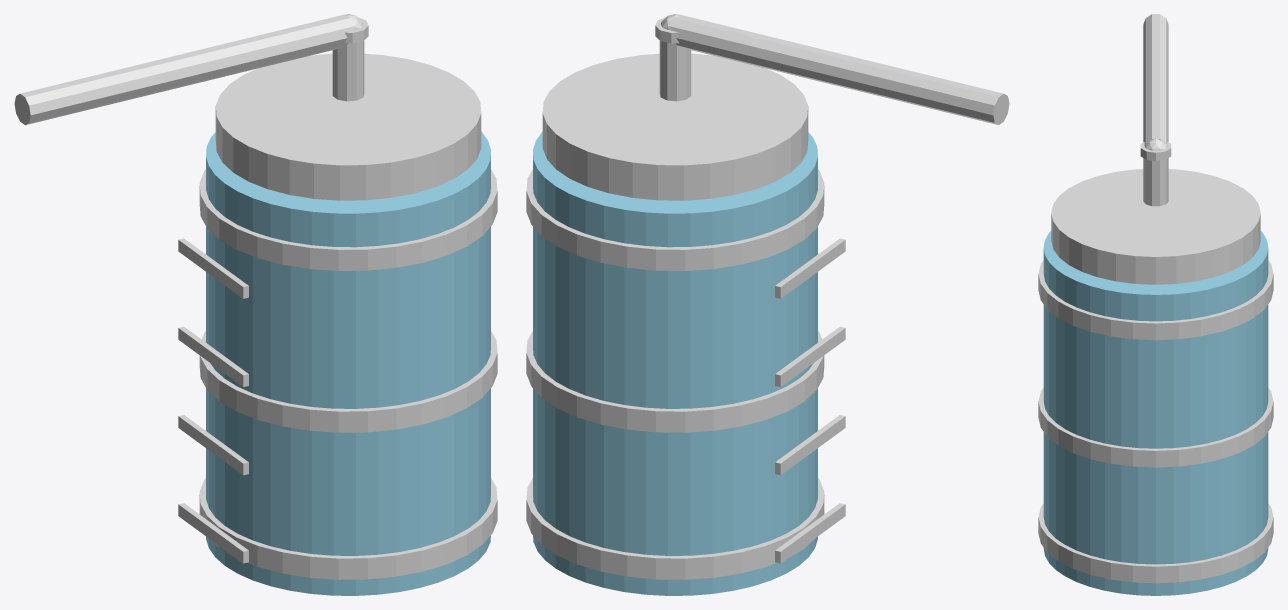
File: L73_16_AbrasiveSlurryMixingTank_Fitted.fbx
3 renders of one model, left to right at view 1: azimuth 30°, elevation 25°; view 2: azimuth 150°, elevation 25°; view 3: azimuth 270°, elevation 25°, orthographic. The views are drawn at different scales.
Visible parts, largest first — view 1: L73_AbrasiveSlurryMixingTank_Static__glass, L73_AbrasiveSlurryMixingTank_Static__tint47657C, L73_AbrasiveSlurryMixingTank_Static__tint1B76D6, L73_AbrasiveSlurryMixingTank_Static__tint27D8F6; view 2: L73_AbrasiveSlurryMixingTank_Static__glass, L73_AbrasiveSlurryMixingTank_Static__tint47657C, L73_AbrasiveSlurryMixingTank_Static__tint1B76D6, L73_AbrasiveSlurryMixingTank_Static__tint27D8F6; view 3: L73_AbrasiveSlurryMixingTank_Static__glass, L73_AbrasiveSlurryMixingTank_Static__tint47657C, L73_AbrasiveSlurryMixingTank_Static__tintC2D0D6.
Part boxes in pixels (x1,y1,x2,y2): L73_AbrasiveSlurryMixingTank_Static__glass: (206, 131, 490, 595); L73_AbrasiveSlurryMixingTank_Static__tint47657C: (14, 14, 497, 579); L73_AbrasiveSlurryMixingTank_Static__tint1B76D6: (178, 238, 248, 386); L73_AbrasiveSlurryMixingTank_Static__tint27D8F6: (178, 415, 248, 563); L73_AbrasiveSlurryMixingTank_Static__glass: (533, 131, 817, 595); L73_AbrasiveSlurryMixingTank_Static__tint47657C: (526, 14, 1009, 579); L73_AbrasiveSlurryMixingTank_Static__tint1B76D6: (775, 238, 845, 386); L73_AbrasiveSlurryMixingTank_Static__tint27D8F6: (775, 415, 845, 563); L73_AbrasiveSlurryMixingTank_Static__glass: (1043, 231, 1268, 595); L73_AbrasiveSlurryMixingTank_Static__tint47657C: (1038, 14, 1273, 583); L73_AbrasiveSlurryMixingTank_Static__tintC2D0D6: (1140, 142, 1171, 160).
Size of the model in its own units: 15.55 by 16.99 by 8.83.
